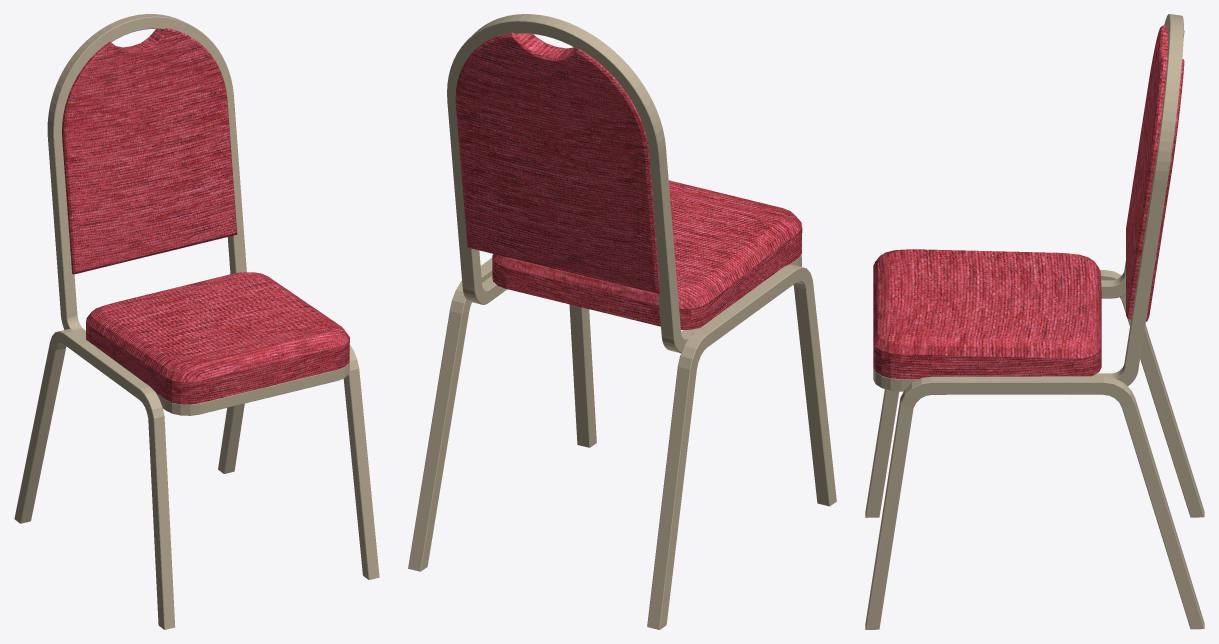
The model's file is sweethome3d-blendswap-cc-0-chair-113.glb.
3 renders of one model, left to right at view 1: azimuth 30°, elevation 25°; view 2: azimuth 150°, elevation 25°; view 3: azimuth 270°, elevation 25°, orthographic. The views are drawn at different scales.
Visible parts, largest first — view 1: chaise, structure; view 2: chaise, structure; view 3: chaise, structure.
Boxes of the visible parts, left/top/right/bottom form: chaise: left=62, top=28, right=349, bottom=404; structure: left=14, top=14, right=379, bottom=629; chaise: left=455, top=32, right=802, bottom=329; structure: left=408, top=14, right=836, bottom=629; chaise: left=873, top=25, right=1184, bottom=379; structure: left=865, top=14, right=1204, bottom=629.
Size of the model in its own units: 40.27 by 86.77 by 48.87.
2 materials, 1 textured.
